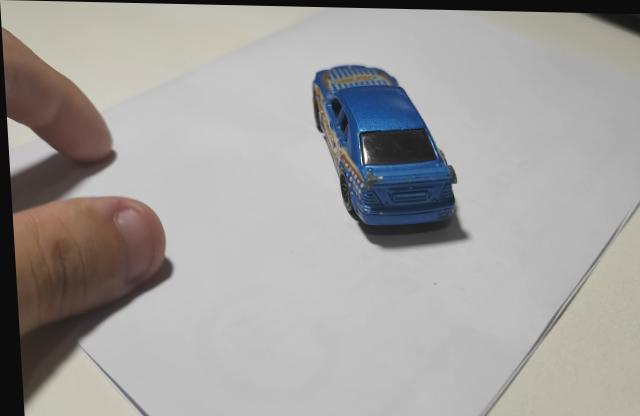04_MERZEDES: (310, 63, 455, 229)
